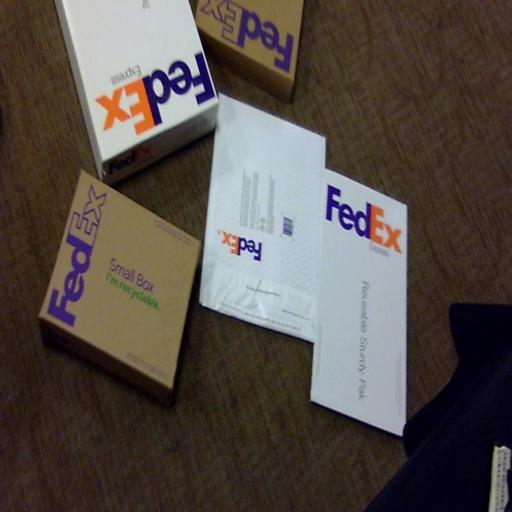Amazon: (35, 179, 195, 402), (61, 0, 233, 175), (305, 155, 406, 430), (210, 87, 319, 335), (189, 2, 308, 100)
